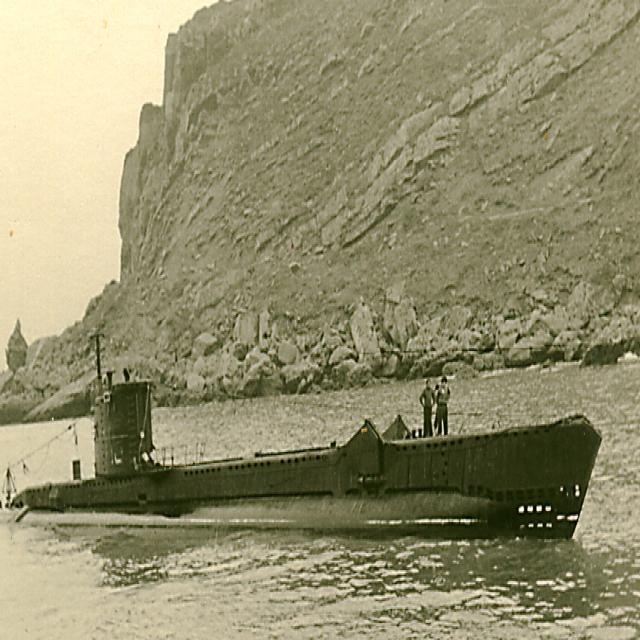submarine: (3, 383, 604, 539)
